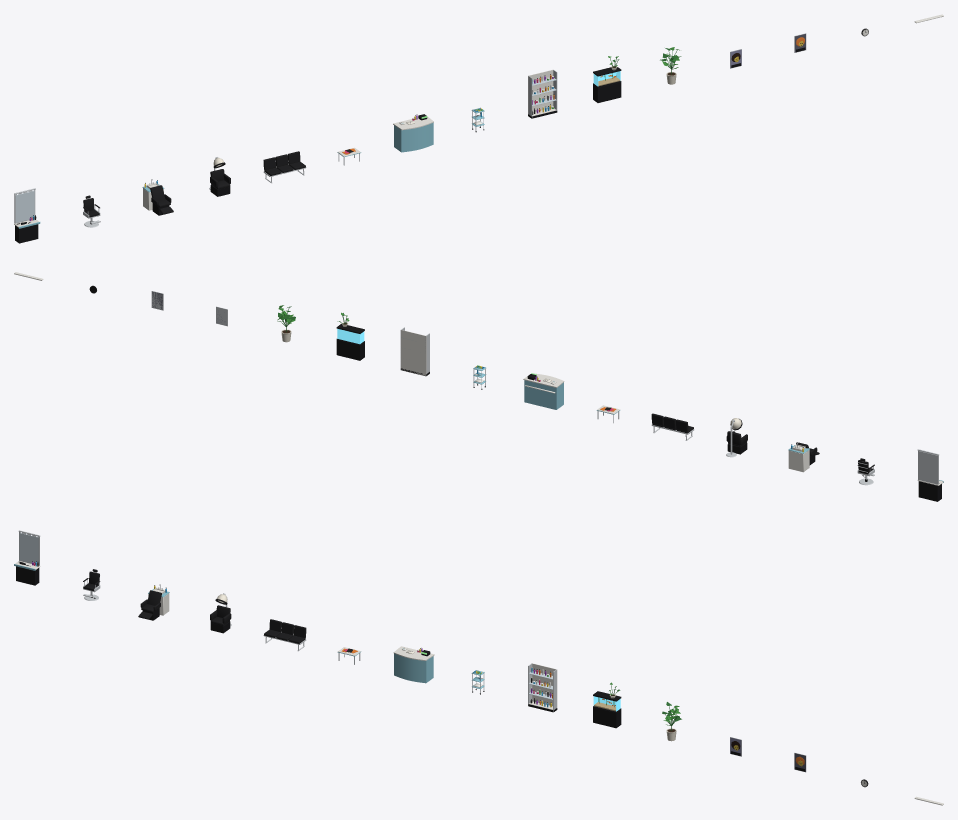
Rendered from Salon.glb.
3 renders of one model, top to bottom at view 1: azimuth 30°, elevation 25°; view 2: azimuth 150°, elevation 25°; view 3: azimuth 330°, elevation 25°, orthographic.
Visible parts, largest first — view 1: ProductShelves, Reception, StylingStation, FishTank, WaitingBench, Basin, DryerChair; view 2: ProductShelves, Reception, StylingStation, FishTank, Basin, DryerChair, WaitingBench; view 3: ProductShelves, Reception, StylingStation, FishTank, WaitingBench, Basin, DryerChair.
Part boxes in pixels (left/top/right/bottom): ProductShelves: left=528, top=69, right=557, bottom=118; Reception: left=393, top=114, right=433, bottom=152; StylingStation: left=14, top=188, right=40, bottom=243; FishTank: left=593, top=56, right=621, bottom=102; WaitingBench: left=263, top=151, right=306, bottom=183; Basin: left=142, top=180, right=173, bottom=215; DryerChair: left=209, top=157, right=230, bottom=196; ProductShelves: left=400, top=327, right=429, bottom=376; Reception: left=523, top=373, right=564, bottom=409; StylingStation: left=917, top=449, right=943, bottom=501; FishTank: left=336, top=312, right=364, bottom=360; Basin: left=788, top=442, right=819, bottom=472; DryerChair: left=726, top=418, right=747, bottom=457; WaitingBench: left=651, top=413, right=694, bottom=440; ProductShelves: left=528, top=663, right=557, bottom=712; Reception: left=393, top=646, right=434, bottom=683; StylingStation: left=14, top=530, right=40, bottom=585; FishTank: left=593, top=682, right=621, bottom=728; WaitingBench: left=263, top=619, right=306, bottom=651; Basin: left=138, top=585, right=169, bottom=620; DryerChair: left=210, top=593, right=231, bottom=633.
Bounding box in the file's own units: 216 × 10.63 × 8.62.
